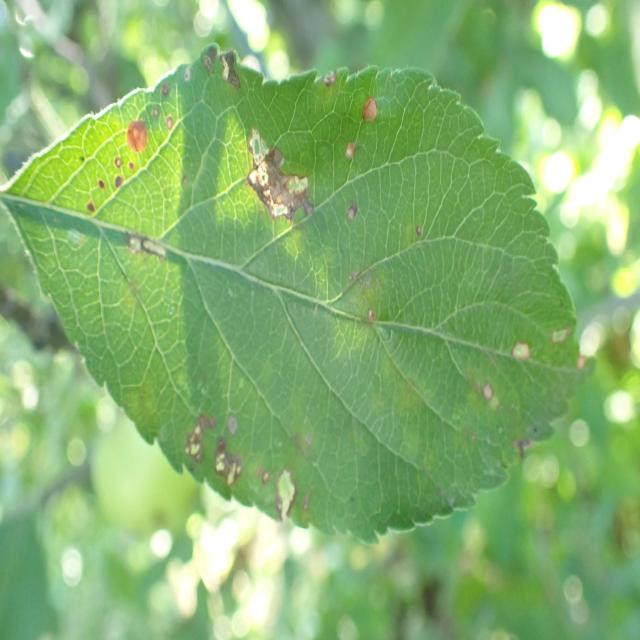frog-eye-leaf-spot: (1, 40, 596, 542)
